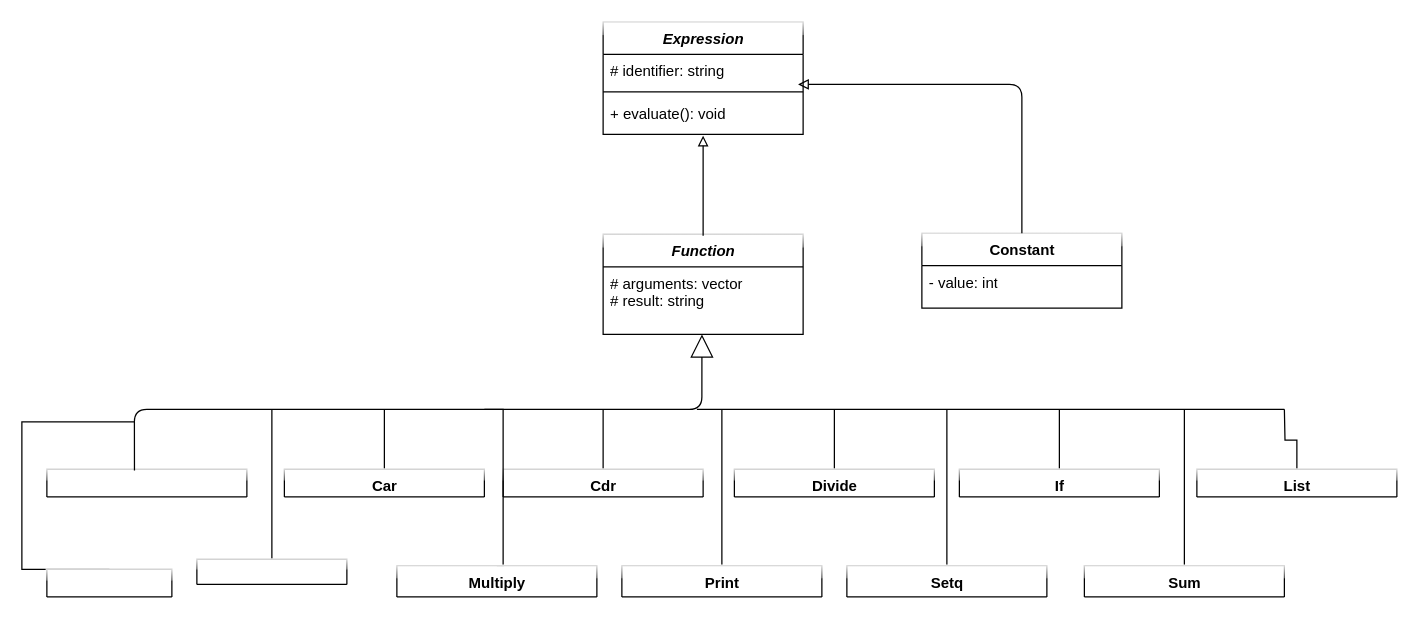
Some shapes in this 1419 by 619 pixel diagram are drawn without their labels. Here are the shapes that lost their labels. From the top down, the centre of each, then its label:
At (146,482): "Append".
At (109,582): "Sync".
At (271,571): "Minus".
